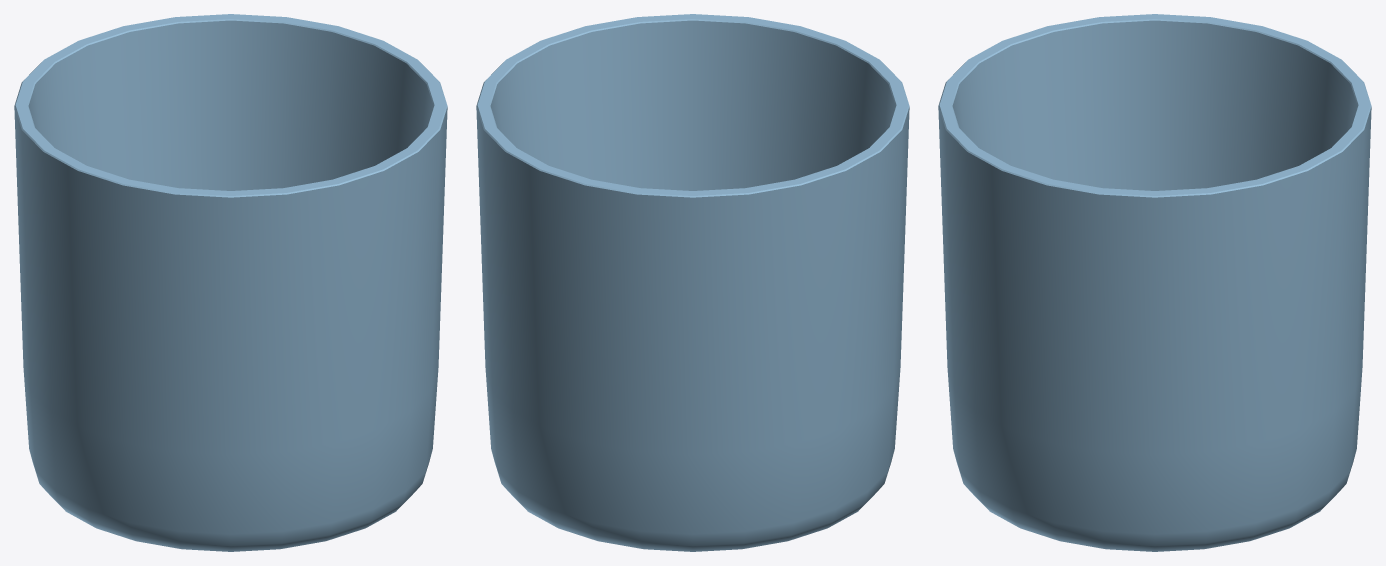
Rendered from stakan_01_.FBX.
3 renders of one model, left to right at view 1: azimuth 30°, elevation 25°; view 2: azimuth 150°, elevation 25°; view 3: azimuth 270°, elevation 25°, orthographic.
Visible parts, largest first — view 1: stakan_01_; view 2: stakan_01_; view 3: stakan_01_.
Boxes of the visible parts, x1,y1,x2,y2 form: stakan_01_: [14, 14, 447, 551]; stakan_01_: [476, 14, 909, 551]; stakan_01_: [938, 14, 1371, 551].
Size of the model in its own units: 77.28 by 72.82 by 77.28.
